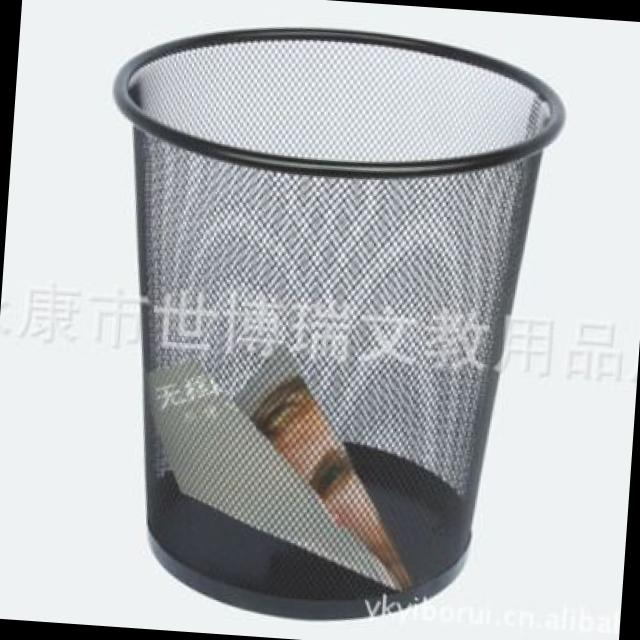dustbin: (67, 12, 577, 640)
